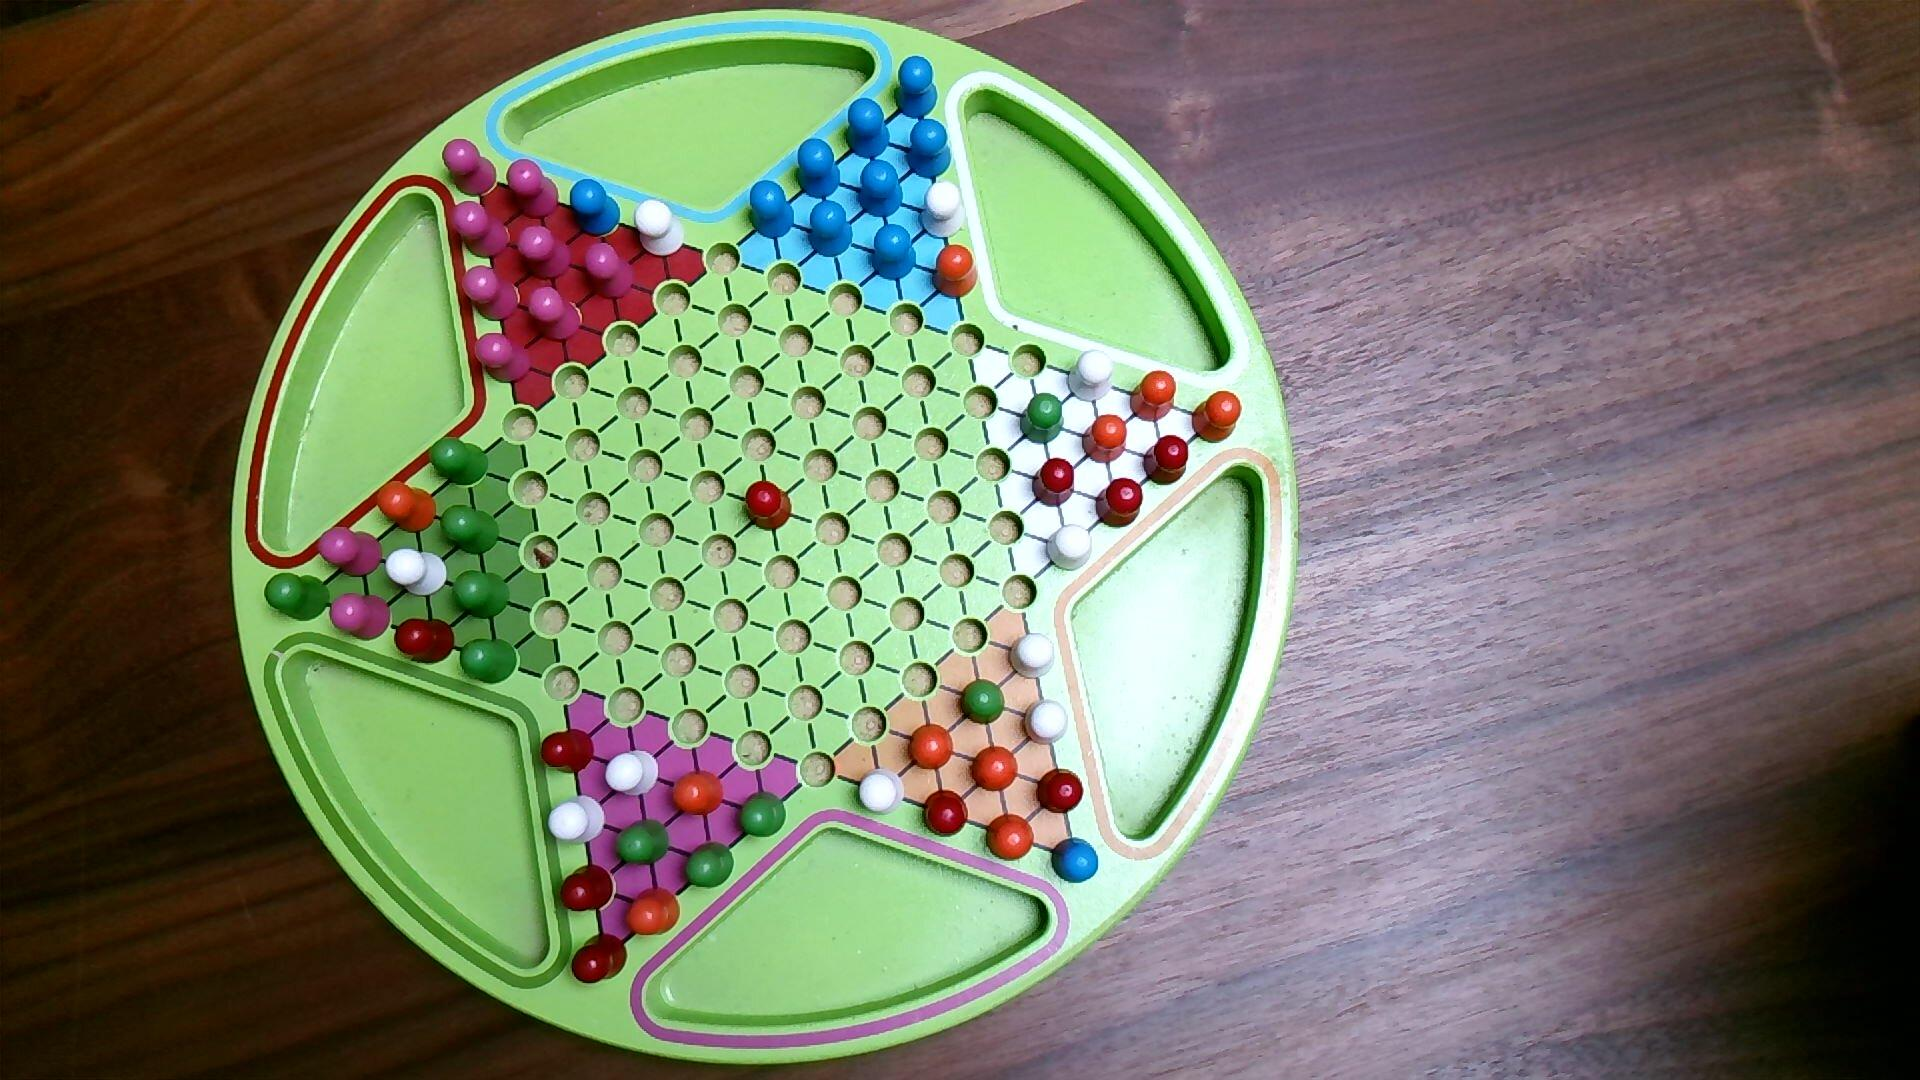B: (568, 178, 622, 240), (746, 179, 796, 243), (893, 54, 940, 120), (843, 98, 891, 161), (905, 117, 953, 181), (806, 199, 855, 260), (869, 223, 918, 284), (857, 160, 906, 220), (796, 137, 843, 200), (1051, 836, 1100, 885)
G: (262, 572, 332, 624), (439, 504, 502, 556), (450, 570, 513, 621), (427, 436, 491, 488), (459, 637, 520, 686), (613, 818, 673, 866), (682, 841, 736, 890), (1018, 392, 1065, 447), (957, 676, 1006, 728), (738, 791, 789, 840)
O: (376, 480, 438, 535), (624, 886, 683, 938), (931, 243, 980, 303), (1192, 390, 1244, 444), (669, 770, 727, 818), (1130, 369, 1178, 425), (984, 814, 1036, 862), (1081, 413, 1129, 465), (971, 746, 1021, 794), (909, 723, 956, 771)
R: (568, 931, 630, 986), (394, 617, 458, 667), (558, 862, 616, 914), (1095, 476, 1145, 531), (541, 727, 597, 775), (744, 480, 794, 534), (920, 789, 971, 841), (1142, 434, 1189, 488), (1036, 767, 1085, 818), (1031, 456, 1076, 510)
R2: (451, 200, 512, 262), (316, 526, 384, 580), (505, 157, 560, 222), (462, 265, 521, 323), (442, 138, 498, 199), (526, 285, 583, 343), (516, 225, 574, 282), (473, 332, 535, 385), (328, 592, 392, 644), (582, 243, 636, 301)
W: (382, 549, 448, 599), (633, 198, 687, 258), (547, 795, 607, 847), (919, 179, 967, 241), (604, 749, 659, 799), (1067, 349, 1116, 404), (1007, 632, 1058, 682), (1044, 524, 1095, 574), (857, 767, 906, 818), (1022, 699, 1071, 748)
